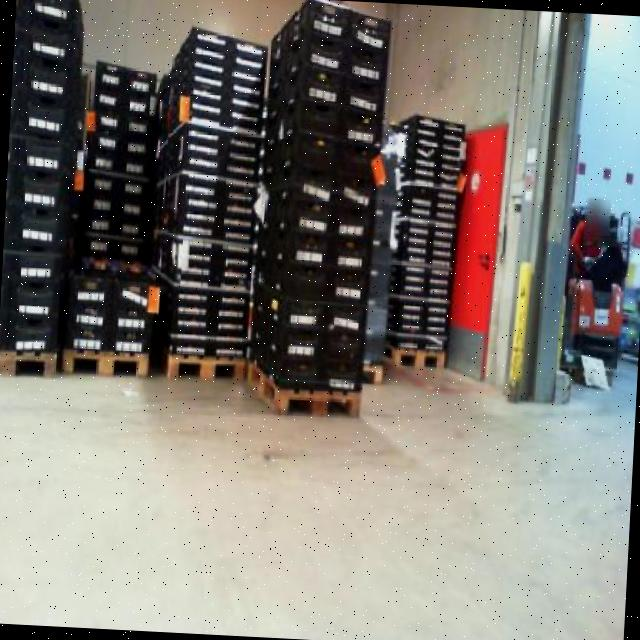pallet: (246, 354, 362, 423), (56, 344, 156, 390), (160, 351, 250, 386), (378, 344, 457, 374), (0, 345, 61, 382)
